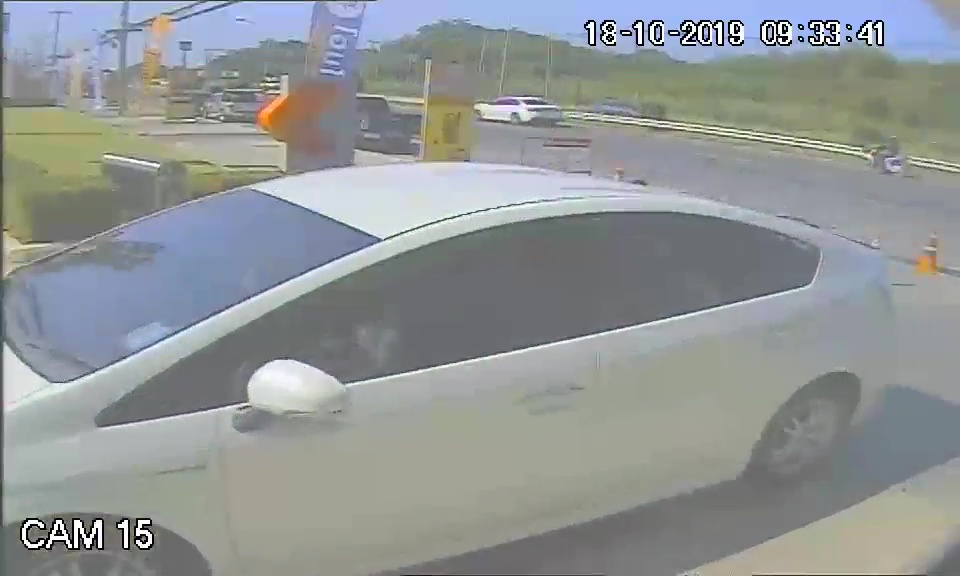sedan: (16, 159, 903, 521)
